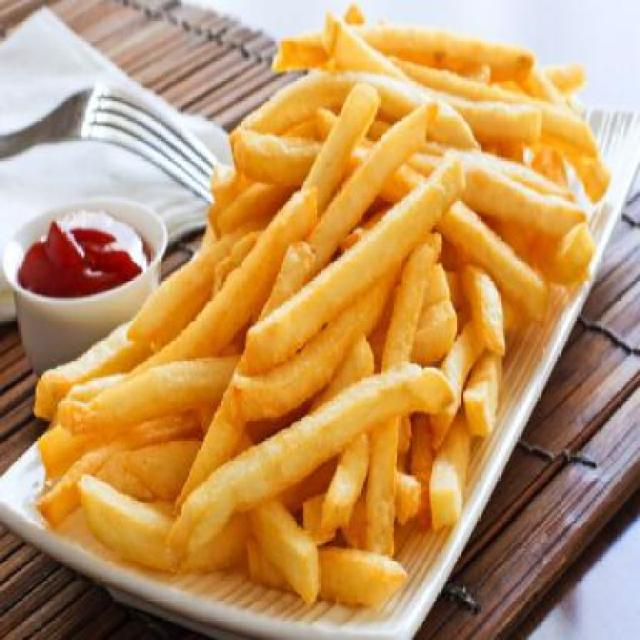fries: (26, 0, 604, 638)
